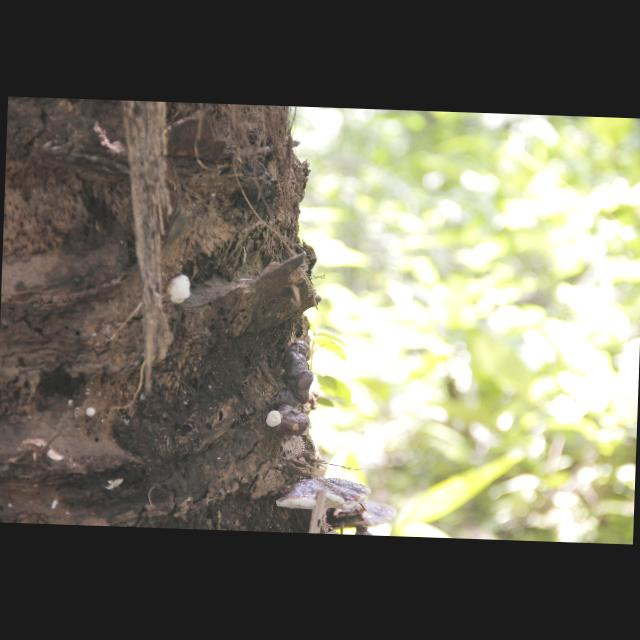ganoderma: (276, 476, 373, 514), (279, 340, 314, 437), (323, 502, 397, 531)
primordium: (165, 274, 194, 306), (266, 410, 284, 429), (86, 408, 98, 419)
